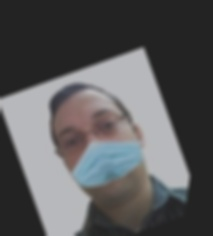mask_weared_incorrect: (49, 80, 148, 203)
